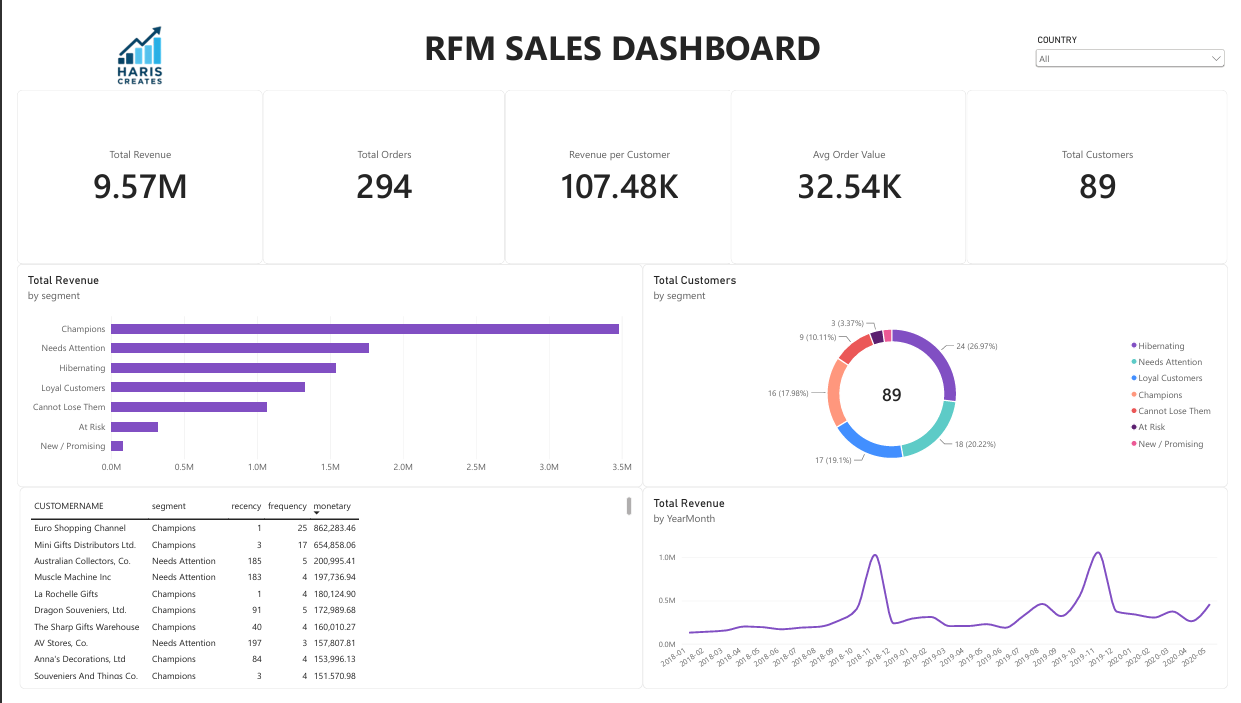

The page's visual inventory and layout, read from the dashboard file:
{"tool":"powerbi","page":{"name":"Executive Overview","canvas":[1920,1080],"ordinal":0},"visuals":[{"type":"cardVisual","fields":{"Data":["_Measures.Total Revenue"]},"box":[0,130,389.3,276.4],"z":0},{"type":"cardVisual","fields":{"Data":["_Measures.Total Orders"]},"box":[390,130,383.3,276.4],"z":1},{"type":"cardVisual","fields":{"Data":["_Measures.Revenue per Customer"]},"box":[774,130,361.1,276.4],"z":2},{"type":"cardVisual","fields":{"Data":["_Measures.Avg Order Value"]},"box":[1132,130,373.2,276.4],"z":3},{"type":"cardVisual","fields":{"Data":["_Measures.Total Customers"]},"box":[1506,130,413.5,276.4],"z":4},{"type":"clusteredBarChart","fields":{"Category":["auto_sales_rfm rfm_segments.segment"],"Y":["_Measures.Total Revenue"]},"box":[0,406,992,354],"z":5},{"type":"donutChart","fields":{"Category":["auto_sales_rfm rfm_segments.segment"],"Y":["_Measures.Total Customers"]},"box":[992,406,928,354],"z":6},{"type":"slicer","fields":{"Values":["auto_sales_rfm sales_clean.COUNTRY"]},"box":[1610,42,310,60],"z":7},{"type":"tableEx","fields":{"Values":["auto_sales_rfm sales_clean.CUSTOMERNAME","auto_sales_rfm rfm_segments.segment","auto_sales_rfm rfm_segments.recency","auto_sales_rfm rfm_segments.frequency","auto_sales_rfm rfm_segments.monetary"]},"box":[4,760,988,320],"z":8},{"type":"image","box":[0,0,390,142],"z":9},{"type":"textbox","box":[594,24,732,72],"z":10},{"type":"lineChart","fields":{"Category":["DateTable.YearMonth"],"Y":["_Measures.Total Revenue"]},"box":[992,760,928,320],"z":11}]}

Visuals, with their boxes in screenshot pixels (x1, y1, x2, y2), scaled from the page's 1920x1080 canvas onto the 1241x703 screenshot:
cardVisual - _Measures.Total Revenue: pyautogui.locateOnScreen(0, 85, 252, 265)
cardVisual - _Measures.Total Orders: pyautogui.locateOnScreen(252, 85, 500, 265)
cardVisual - _Measures.Revenue per Customer: pyautogui.locateOnScreen(500, 85, 734, 265)
cardVisual - _Measures.Avg Order Value: pyautogui.locateOnScreen(732, 85, 973, 265)
cardVisual - _Measures.Total Customers: pyautogui.locateOnScreen(973, 85, 1240, 265)
clusteredBarChart - auto_sales_rfm rfm_segments.segment x _Measures.Total Revenue: pyautogui.locateOnScreen(0, 264, 641, 495)
donutChart - auto_sales_rfm rfm_segments.segment x _Measures.Total Customers: pyautogui.locateOnScreen(641, 264, 1240, 495)
slicer - auto_sales_rfm sales_clean.COUNTRY: pyautogui.locateOnScreen(1041, 27, 1240, 66)
tableEx - auto_sales_rfm sales_clean.CUSTOMERNAME x auto_sales_rfm rfm_segments.segment: pyautogui.locateOnScreen(3, 495, 641, 702)
image: pyautogui.locateOnScreen(0, 0, 252, 92)
textbox: pyautogui.locateOnScreen(384, 16, 857, 62)
lineChart - DateTable.YearMonth x _Measures.Total Revenue: pyautogui.locateOnScreen(641, 495, 1240, 702)
